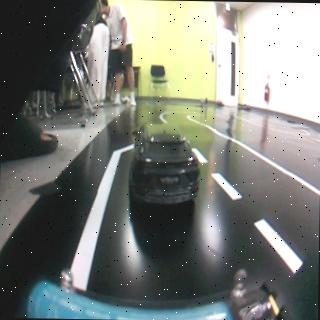car: (129, 122, 202, 205)
